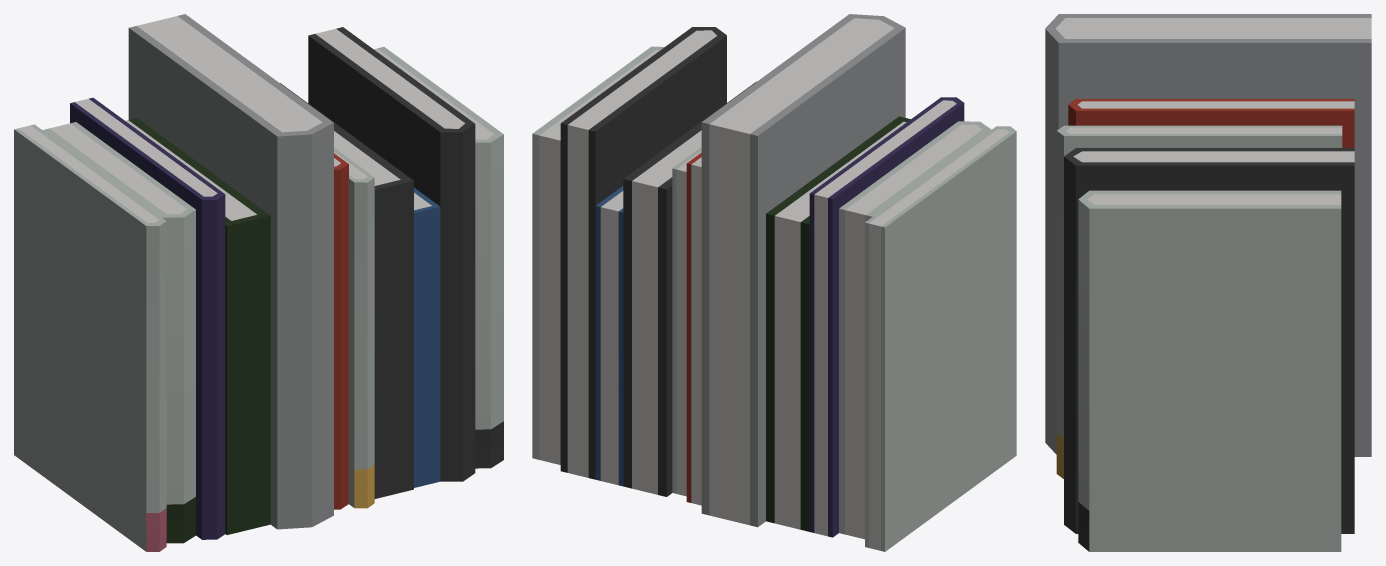
The model's file is SM_Prop_Book_Group_07.obj.
3 renders of one model, left to right at view 1: azimuth 30°, elevation 25°; view 2: azimuth 150°, elevation 25°; view 3: azimuth 270°, elevation 25°, orthographic. The views are drawn at different scales.
Parts seen in each view (by area): view 1: SM_Prop_Book_Group_07_M_PolygonOffice_01_A; view 2: SM_Prop_Book_Group_07_M_PolygonOffice_01_A; view 3: SM_Prop_Book_Group_07_M_PolygonOffice_01_A.
Boxes of the visible parts, x1,y1,x2,y2 form: SM_Prop_Book_Group_07_M_PolygonOffice_01_A: [14, 14, 503, 551]; SM_Prop_Book_Group_07_M_PolygonOffice_01_A: [532, 14, 1016, 551]; SM_Prop_Book_Group_07_M_PolygonOffice_01_A: [1045, 14, 1371, 551].
Size of the model in its own units: 0.3665 by 0.3799 by 0.2716.
Materials: 1 (1 with a texture image).
